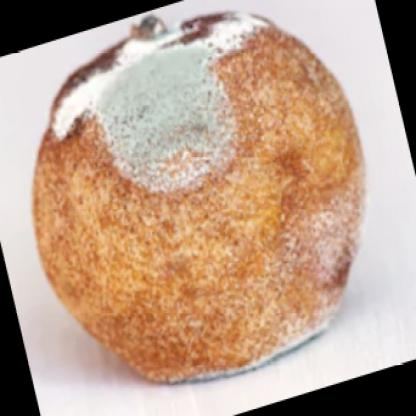rotten_orange: (22, 4, 370, 380)
